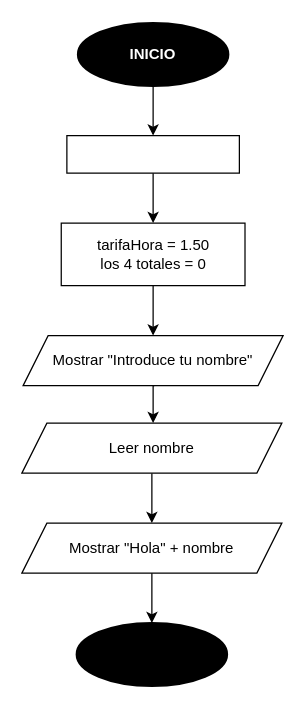
This 305x708 diagram has some shape labels left out. The shapes that lost their labels are listed below. From the top down, each one's centre as x and y in pixels, then its label:
[152,153]: Crear Scanner
[151,653]: MENÚ
